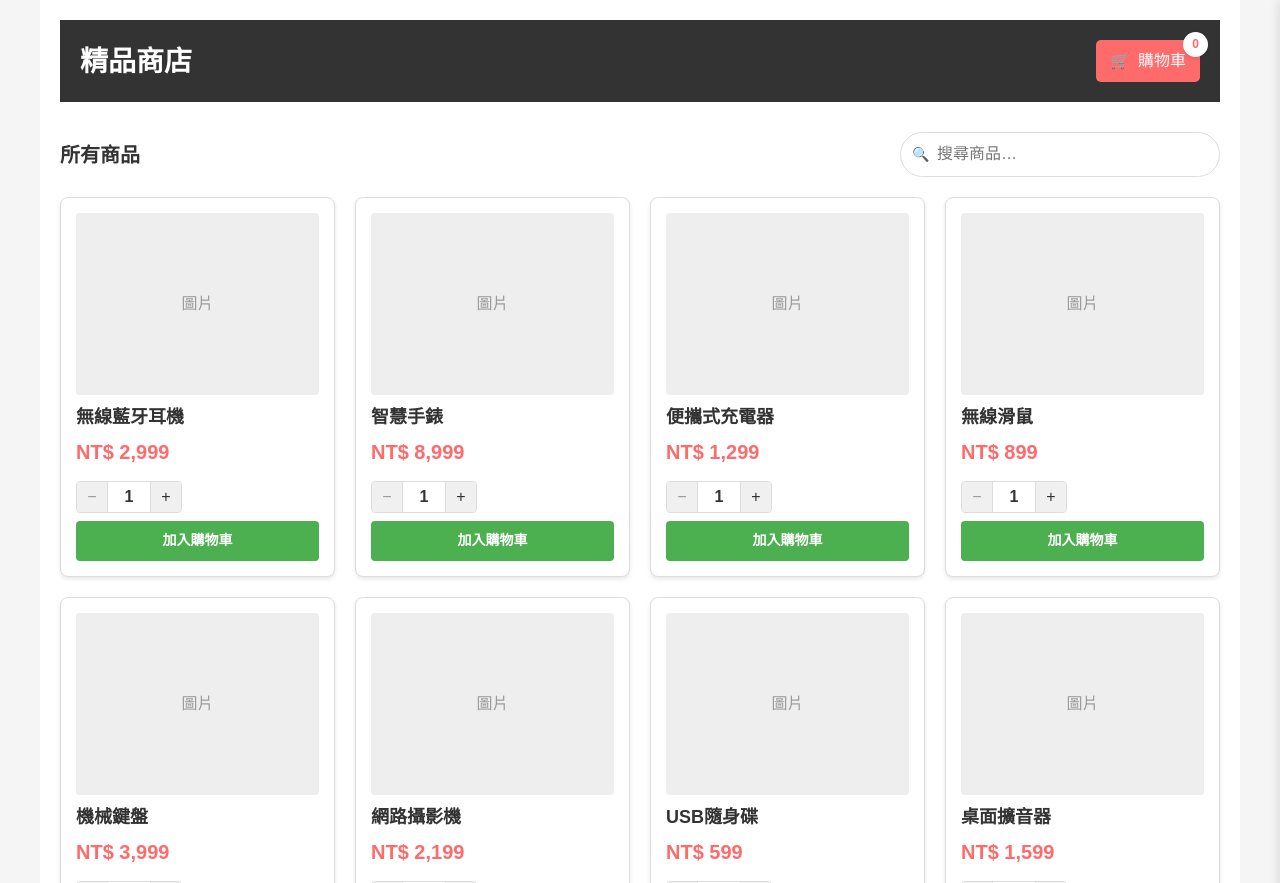
it: Shop › filters products with the search box
Expected: the heading "智慧手錶" is shown, [371,407,443,427]
Type "無線" into the search field labelled "搜尋商品". click: [1060, 155]
box: [900,132,1220,177]
Wait 300 ms
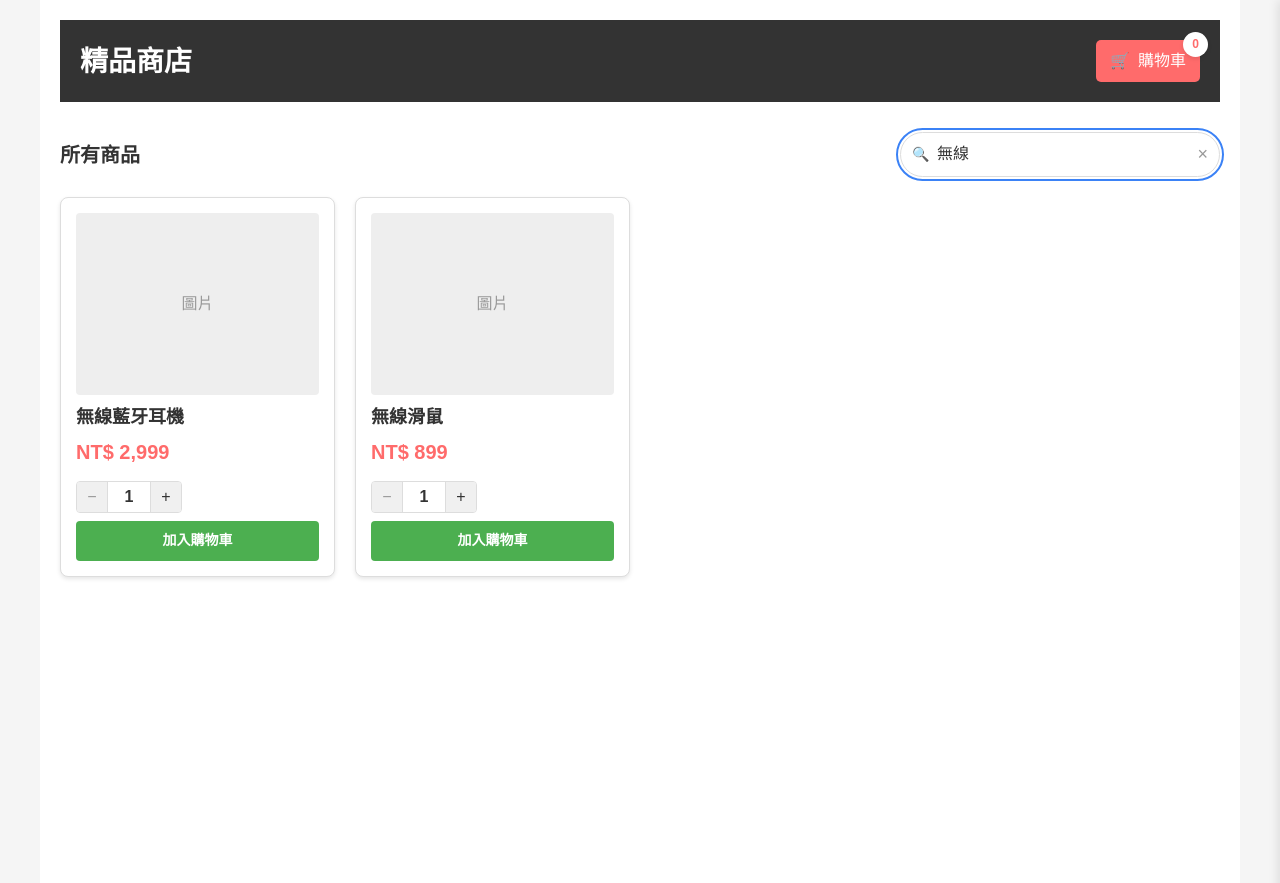
Expected: the heading "智慧手錶" is gone
